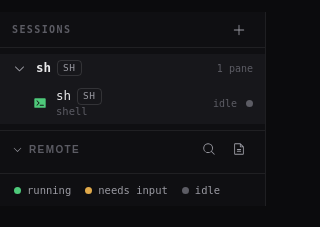
Sidebar — renaming a session › double-clicking the name opens a field with the live name, focused and selected
Double-click the text with class "session" at (44, 68), box left=36, top=60, right=51, bottom=76
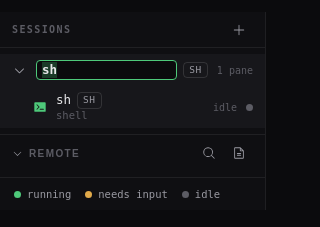
Expected: the field with class "tree-rename" holds "sh", left=36, top=60, right=177, bottom=80
